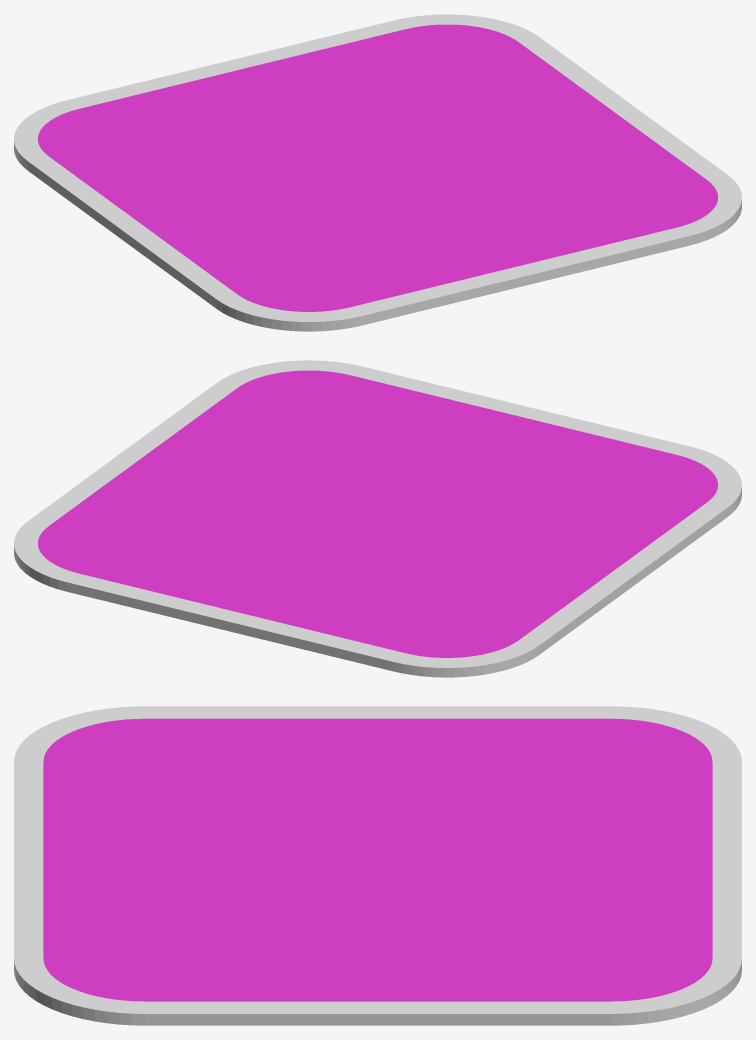
The model's file is ground_main.fbx.
3 views of the same model, one above another, from view 1: azimuth 30°, elevation 25°; view 2: azimuth 150°, elevation 25°; view 3: azimuth 270°, elevation 25° (orthographic). The views are drawn at different scales.
Parts seen in each view (by area): view 1: Cube; view 2: Cube; view 3: Cube.
Boxes of the visible parts, left/top/right/bottom form: Cube: left=14, top=14, right=741, bottom=331; Cube: left=14, top=360, right=741, bottom=677; Cube: left=14, top=706, right=741, bottom=1025.
Bounding box in the file's own units: 625 × 11.13 × 625.
